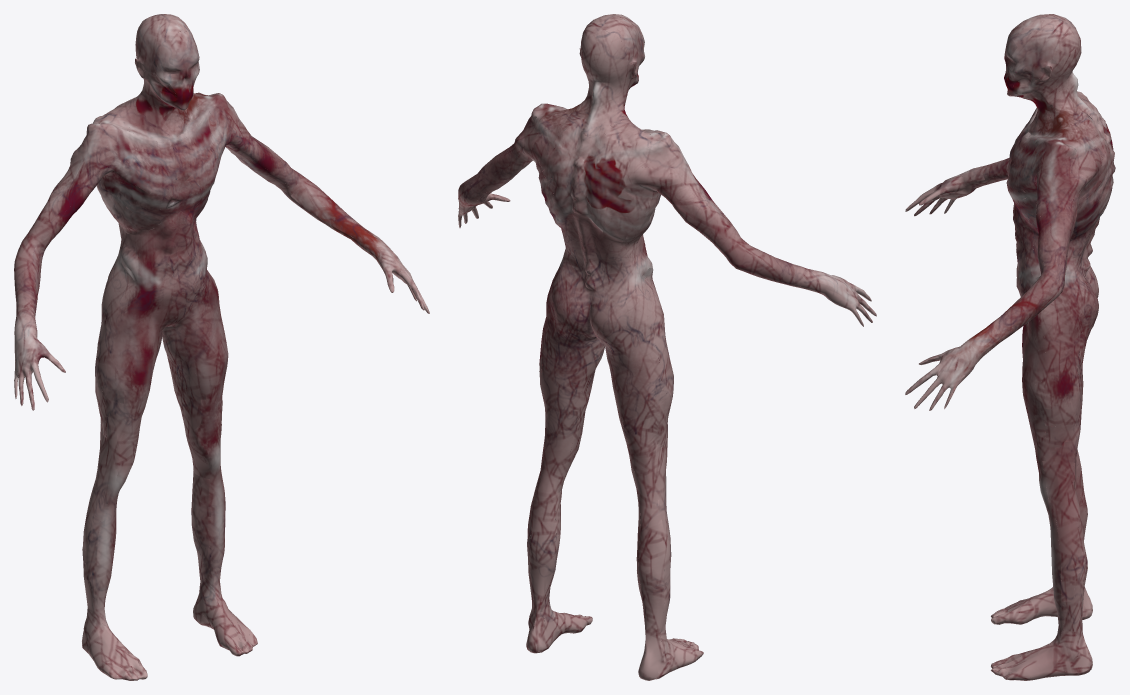
3 renders of one model, left to right at view 1: azimuth 30°, elevation 25°; view 2: azimuth 150°, elevation 25°; view 3: azimuth 270°, elevation 25°, orthographic.
Parts seen in each view (by area): view 1: coekMesh; view 2: coekMesh; view 3: coekMesh.
Boxes of the visible parts, x1,y1,x2,y2 form: coekMesh: [14, 14, 429, 680]; coekMesh: [458, 14, 876, 680]; coekMesh: [905, 14, 1115, 680].
Bounding box in the file's own units: 1.17 × 1.75 × 0.5285.
1 material, 1 textured.
